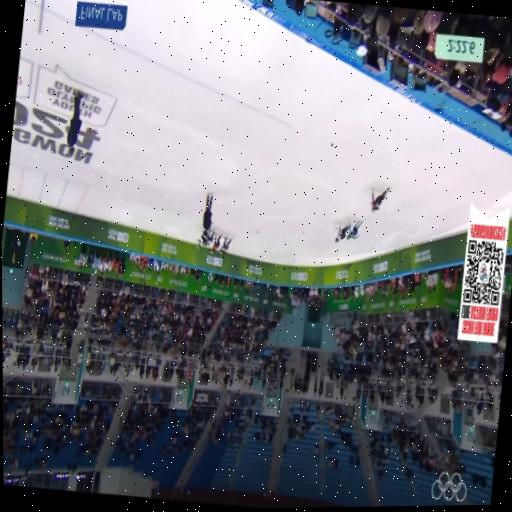Skater: (368, 183, 391, 215), (195, 229, 212, 250), (219, 236, 236, 256), (210, 232, 224, 255), (347, 221, 363, 239), (200, 229, 215, 248), (335, 224, 350, 241)
